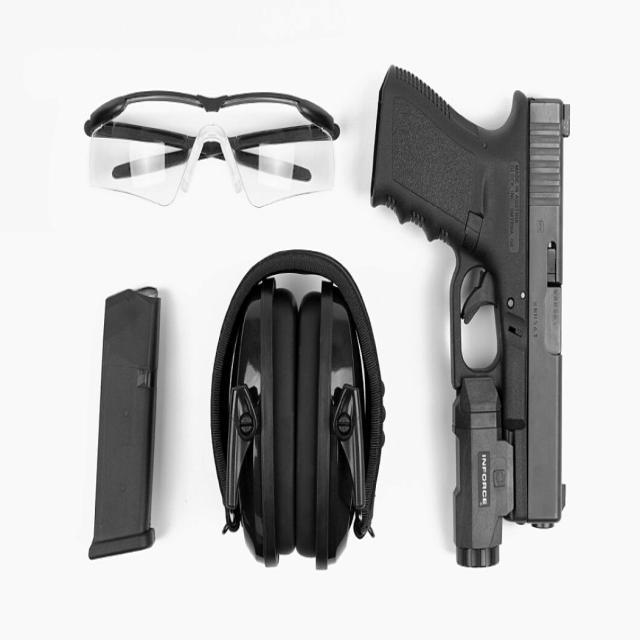Weapon: (370, 66, 569, 566)
